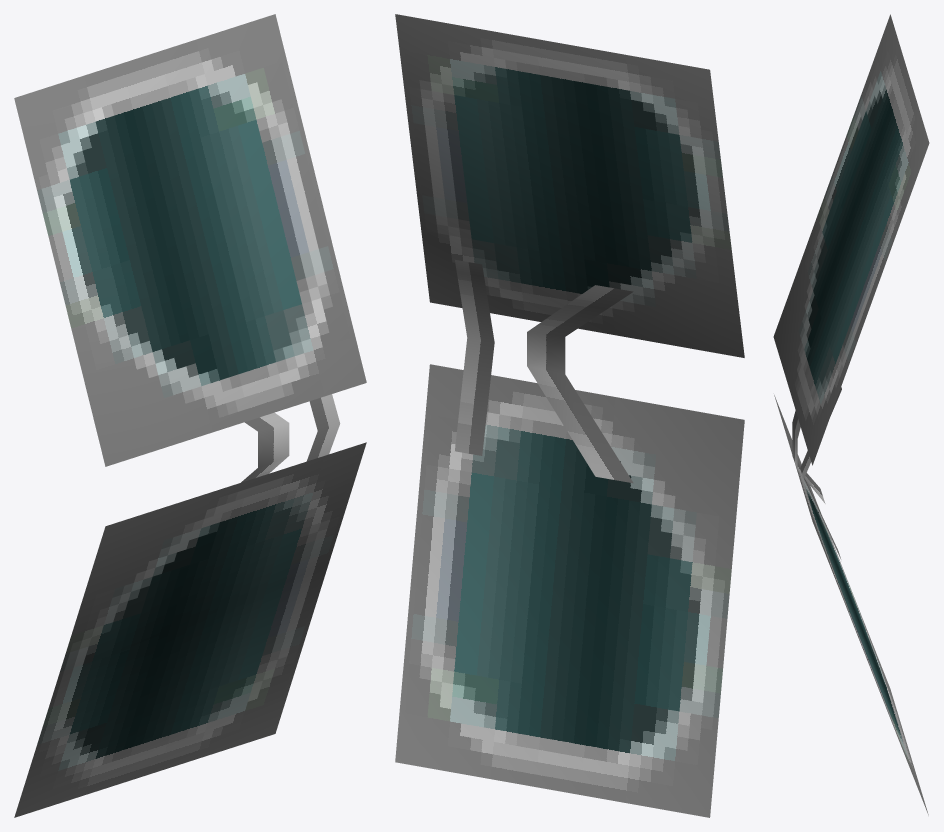
Rendered from acc_shade_pilot.dae.
The picture shows the model from 3 angles, left to right: view 1: azimuth 30°, elevation 25°; view 2: azimuth 150°, elevation 25°; view 3: azimuth 270°, elevation 25°; orthographic projection. The views are drawn at different scales.
Visible parts, largest first — view 1: acc_shade_pilot; view 2: acc_shade_pilot; view 3: acc_shade_pilot.
Boxes of the visible parts, x1,y1,x2,y2 form: acc_shade_pilot: [14, 14, 366, 817]; acc_shade_pilot: [395, 14, 744, 817]; acc_shade_pilot: [773, 14, 929, 815].
Bounding box in the file's own units: 7.66 × 16.94 × 3.55.
1 material, 1 textured.
